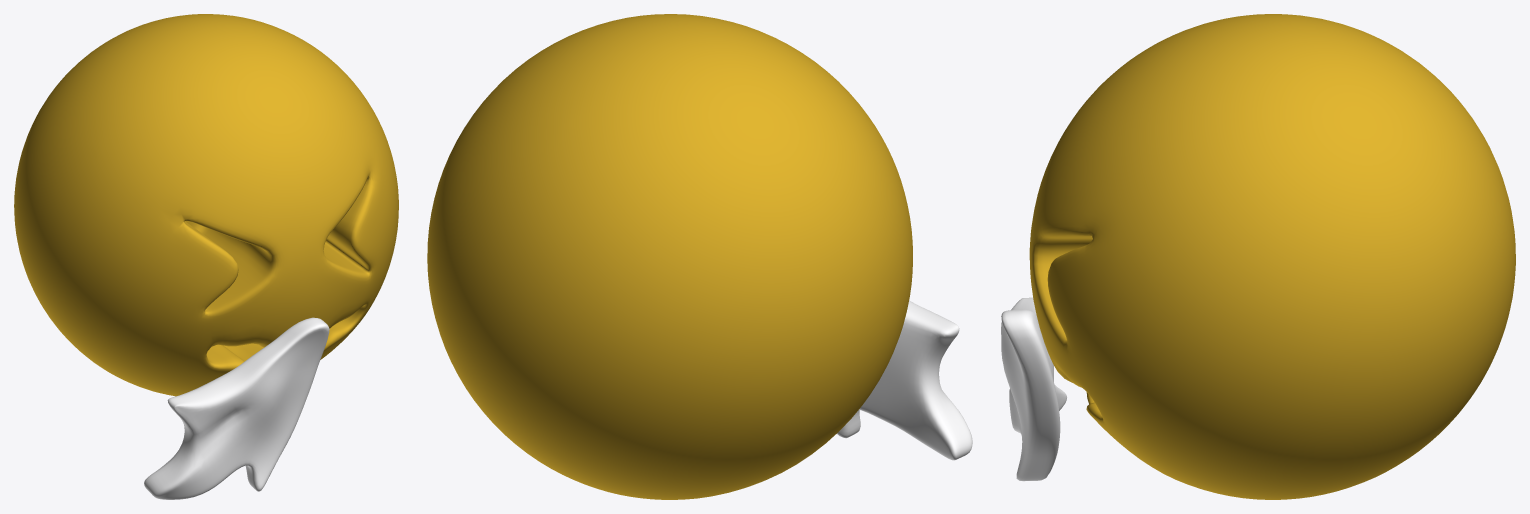
Rendered from blowing FBX.glb.
3 views of the same model, side by side, from view 1: azimuth 30°, elevation 25°; view 2: azimuth 150°, elevation 25°; view 3: azimuth 270°, elevation 25° (orthographic). The views are drawn at different scales.
Visible parts, largest first — view 1: Group50210, Group52937; view 2: Group50210, Group52937; view 3: Group50210, Group52937.
Boxes of the visible parts, left/top/right/bottom form: Group50210: left=14, top=14, right=398, bottom=396; Group52937: left=144, top=317, right=329, bottom=499; Group50210: left=427, top=14, right=912, bottom=499; Group52937: left=837, top=300, right=972, bottom=460; Group50210: left=1029, top=14, right=1515, bottom=499; Group52937: left=1001, top=297, right=1066, bottom=481.
Bounding box in the file's own units: 0.5307 × 0.5705 × 0.5622.
